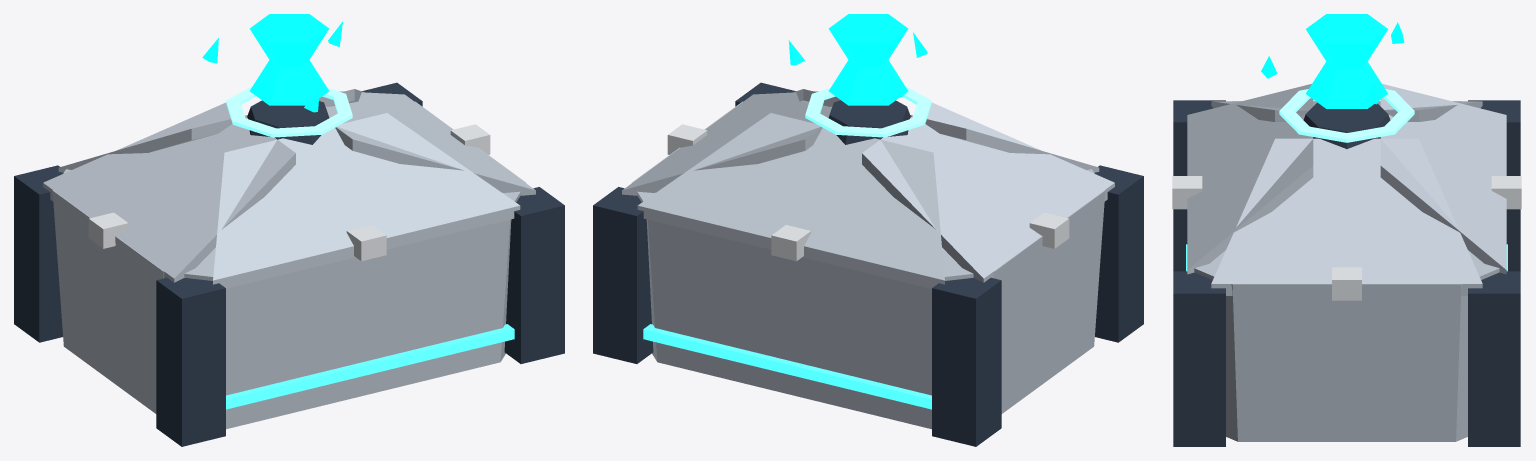
The model's file is chest_silver.glb.
The picture shows the model from 3 angles, left to right: view 1: azimuth 30°, elevation 25°; view 2: azimuth 150°, elevation 25°; view 3: azimuth 270°, elevation 25°; orthographic projection. The views are drawn at different scales.
Visible parts, largest first — view 1: Chest_Silver_Body, Chest_Silver_Lid_South, Chest_Silver_Lid_West, Chest_Silver_CornerBracket_0, Chest_Silver_CornerBracket_1, Chest_Silver_CornerBracket_3, Chest_Silver_Lid_East, Chest_Silver_Energy_Crystal, Chest_Silver_LED_-0.8, Chest_Silver_HoloLock_Ring, Chest_Silver_Lock_IrisHub, Chest_Silver_Lid_North (+3 smaller); view 2: Chest_Silver_Body, Chest_Silver_Lid_North, Chest_Silver_Lid_West, Chest_Silver_CornerBracket_3, Chest_Silver_CornerBracket_2, Chest_Silver_CornerBracket_0, Chest_Silver_Lid_East, Chest_Silver_Energy_Crystal, Chest_Silver_LED_0.8, Chest_Silver_HoloLock_Ring, Chest_Silver_Lock_IrisHub, Chest_Silver_Lid_South (+3 smaller); view 3: Chest_Silver_Body, Chest_Silver_Lid_East, Chest_Silver_Lid_South, Chest_Silver_Lid_North, Chest_Silver_CornerBracket_1, Chest_Silver_CornerBracket_2, Chest_Silver_Energy_Crystal, Chest_Silver_CornerBracket_0, Chest_Silver_CornerBracket_3, Chest_Silver_HoloLock_Ring, Chest_Silver_Lock_IrisHub, Chest_Silver_Lid_West (+3 smaller).
Part boxes in pixels (bbox=[...]): Chest_Silver_Body: bbox=[52, 101, 525, 429]; Chest_Silver_Lid_South: bbox=[213, 113, 520, 288]; Chest_Silver_Lid_West: bbox=[43, 102, 295, 282]; Chest_Silver_CornerBracket_0: bbox=[156, 277, 225, 446]; Chest_Silver_CornerBracket_1: bbox=[504, 187, 564, 363]; Chest_Silver_CornerBracket_3: bbox=[14, 165, 63, 342]; Chest_Silver_Lid_East: bbox=[322, 91, 535, 195]; Chest_Silver_Energy_Crystal: bbox=[249, 14, 329, 105]; Chest_Silver_LED_-0.8: bbox=[226, 324, 514, 409]; Chest_Silver_HoloLock_Ring: bbox=[226, 86, 352, 137]; Chest_Silver_Lock_IrisHub: bbox=[247, 100, 329, 144]; Chest_Silver_Lid_North: bbox=[58, 89, 365, 172]; Chest_Silver_Body: bbox=[632, 101, 1105, 429]; Chest_Silver_Lid_North: bbox=[637, 113, 944, 288]; Chest_Silver_Lid_West: bbox=[862, 102, 1114, 282]; Chest_Silver_CornerBracket_3: bbox=[932, 277, 1001, 446]; Chest_Silver_CornerBracket_2: bbox=[593, 187, 653, 363]; Chest_Silver_CornerBracket_0: bbox=[1094, 165, 1143, 342]; Chest_Silver_Lid_East: bbox=[622, 91, 835, 195]; Chest_Silver_Energy_Crystal: bbox=[828, 14, 908, 105]; Chest_Silver_LED_0.8: bbox=[643, 324, 931, 409]; Chest_Silver_HoloLock_Ring: bbox=[805, 86, 931, 137]; Chest_Silver_Lock_IrisHub: bbox=[828, 100, 910, 144]; Chest_Silver_Lid_South: bbox=[792, 89, 1099, 172]; Chest_Silver_Body: bbox=[1194, 101, 1499, 441]; Chest_Silver_Lid_East: bbox=[1211, 138, 1482, 295]; Chest_Silver_Lid_South: bbox=[1187, 84, 1313, 274]; Chest_Silver_Lid_North: bbox=[1380, 84, 1506, 274]; Chest_Silver_CornerBracket_1: bbox=[1173, 271, 1225, 446]; Chest_Silver_CornerBracket_2: bbox=[1468, 271, 1520, 446]; Chest_Silver_Energy_Crystal: bbox=[1306, 14, 1387, 108]; Chest_Silver_CornerBracket_0: bbox=[1173, 100, 1225, 271]; Chest_Silver_CornerBracket_3: bbox=[1468, 100, 1520, 271]; Chest_Silver_HoloLock_Ring: bbox=[1279, 89, 1414, 142]; Chest_Silver_Lock_IrisHub: bbox=[1303, 102, 1390, 148]; Chest_Silver_Lid_West: bbox=[1211, 101, 1482, 121].
Size of the model in its own units: 2.46 by 1.91 by 1.86.
